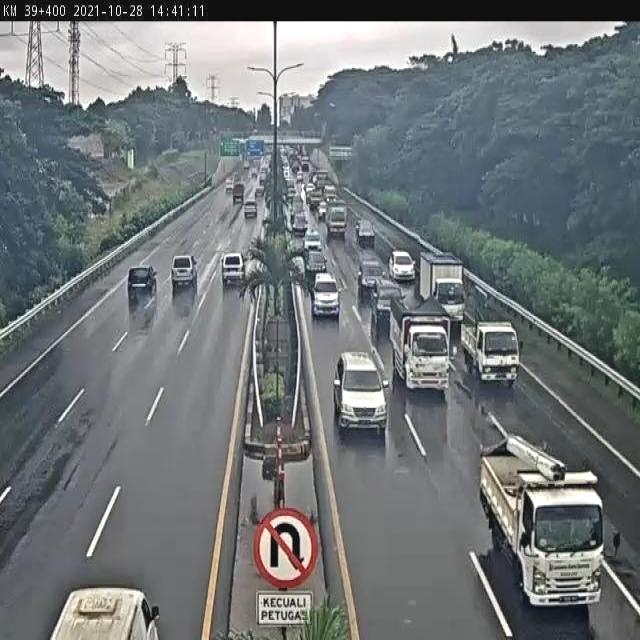Car: (332, 351, 390, 435), (369, 277, 403, 334), (311, 272, 340, 320), (356, 255, 384, 302), (128, 265, 158, 298), (171, 254, 199, 289), (388, 250, 416, 282), (220, 252, 246, 286), (304, 248, 328, 280), (303, 229, 323, 257), (355, 220, 376, 246), (292, 212, 308, 238), (244, 200, 258, 220), (317, 201, 327, 220), (256, 184, 264, 198), (305, 183, 314, 193)
Truck: (478, 436, 624, 614), (388, 292, 459, 393), (461, 316, 521, 386), (417, 252, 472, 328), (326, 202, 348, 238), (232, 182, 245, 204), (316, 170, 328, 189), (299, 154, 310, 170)
Van: (42, 586, 162, 638)
